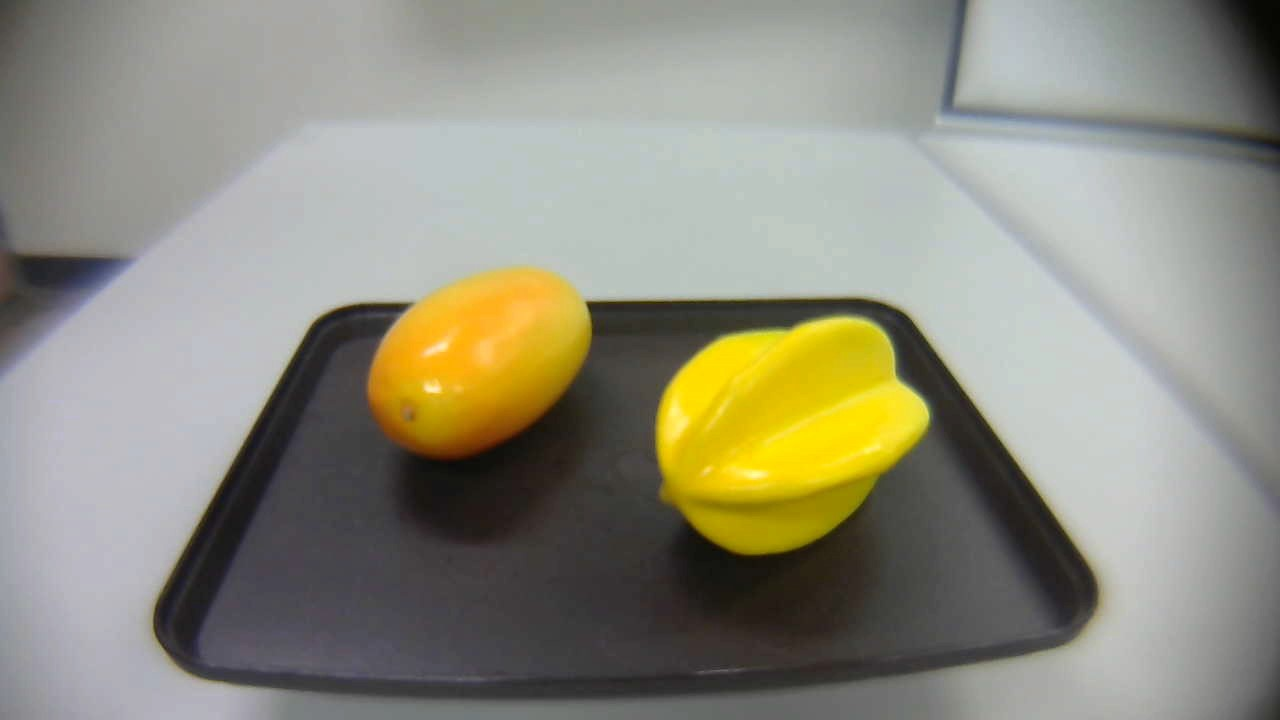star fruit: (651, 306, 938, 559)
yellow mango: (367, 266, 599, 458)
